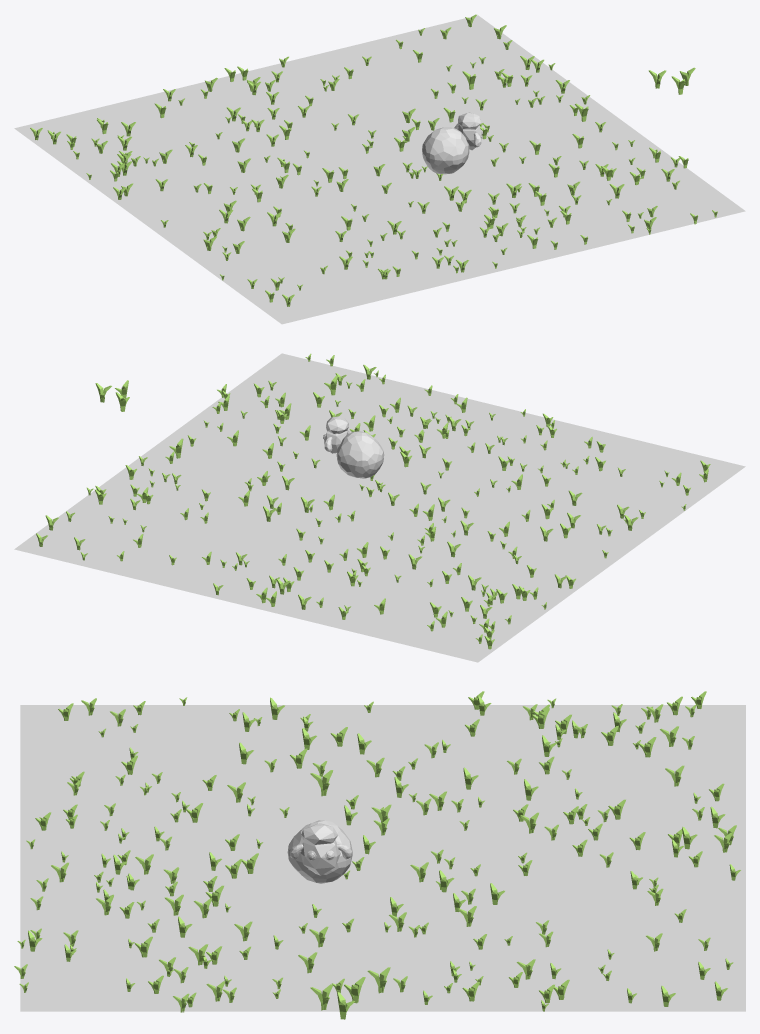
Rendered from ExportedBlenderFBXFile.fbx.
The picture shows the model from 3 angles, top to bottom: view 1: azimuth 30°, elevation 25°; view 2: azimuth 150°, elevation 25°; view 3: azimuth 270°, elevation 25°; orthographic projection. The views are drawn at different scales.
Parts seen in each view (by area): view 1: Plane.001, Icosphere.004; view 2: Plane.001, Icosphere.004; view 3: Plane.001, Icosphere.004.
Boxes of the visible parts, x1,y1,x2,y2 form: Plane.001: (14,15,745,324); Icosphere.004: (422,114,482,174); Plane.001: (14,353,745,662); Icosphere.004: (323,416,384,478); Plane.001: (20,705,745,1011); Icosphere.004: (287,820,352,883).
Size of the model in its own units: 20.97 by 3.67 by 18.42.
